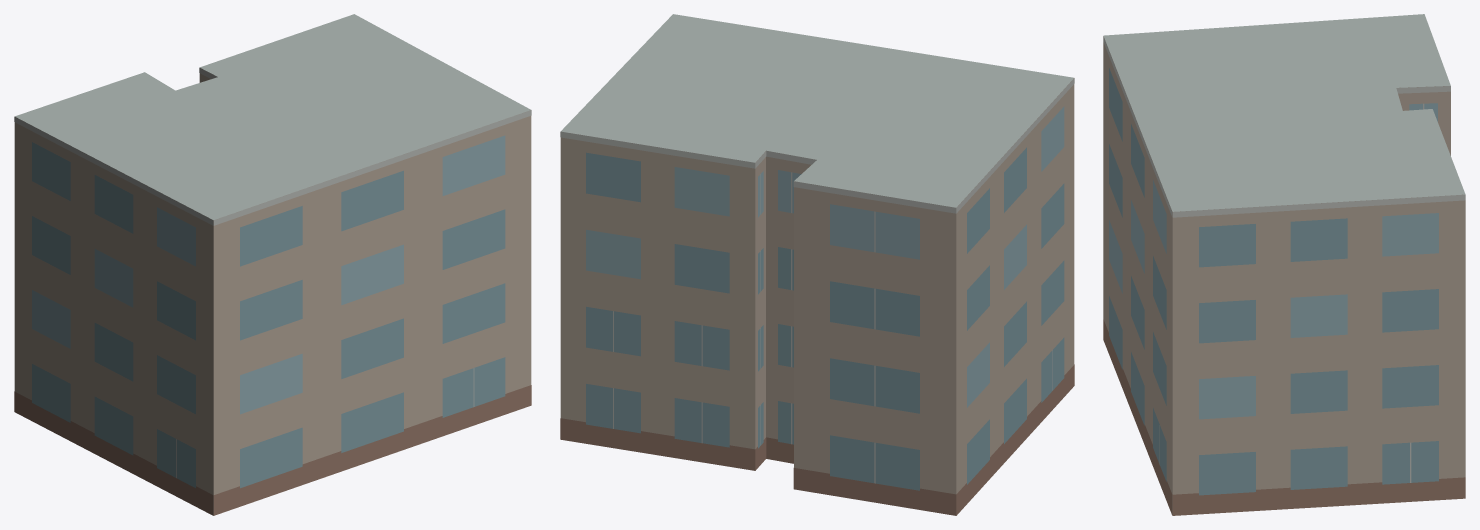
Rendered from survey-upis-32576996.glb.
The picture shows the model from 3 angles, left to right: view 1: azimuth 30°, elevation 25°; view 2: azimuth 150°, elevation 25°; view 3: azimuth 270°, elevation 25°; orthographic projection. The views are drawn at different scales.
Visible parts, largest first — view 1: survey-upis-32576996.tmp; view 2: survey-upis-32576996.tmp; view 3: survey-upis-32576996.tmp.
Part boxes in pixels (bbox=[...]): survey-upis-32576996.tmp: bbox=[14, 14, 531, 515]; survey-upis-32576996.tmp: bbox=[560, 14, 1074, 515]; survey-upis-32576996.tmp: bbox=[1103, 14, 1465, 515].
Bounding box in the file's own units: 17.74 × 12.7 × 13.73.
